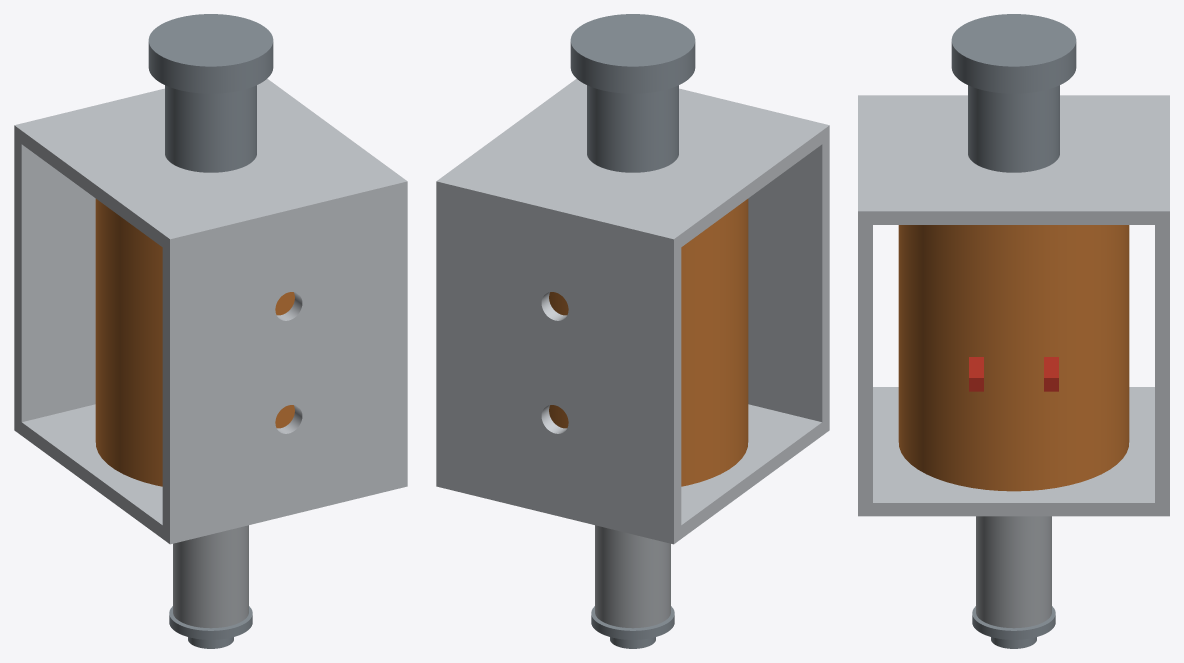
File: sol_jf0826.glb
3 renders of one model, left to right at view 1: azimuth 30°, elevation 25°; view 2: azimuth 150°, elevation 25°; view 3: azimuth 270°, elevation 25°, orthographic.
Visible parts, largest first — view 1: sol_jf0826; view 2: sol_jf0826; view 3: sol_jf0826.
Boxes of the visible parts, left/top/right/bottom form: sol_jf0826: left=14, top=14, right=407, bottom=648; sol_jf0826: left=436, top=14, right=829, bottom=648; sol_jf0826: left=858, top=14, right=1169, bottom=648.
Bounding box in the file's own units: 26 × 53 × 25.
